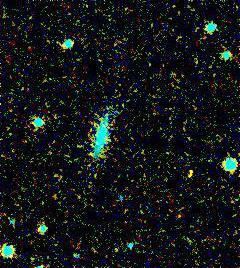star: (173, 163, 203, 193)
